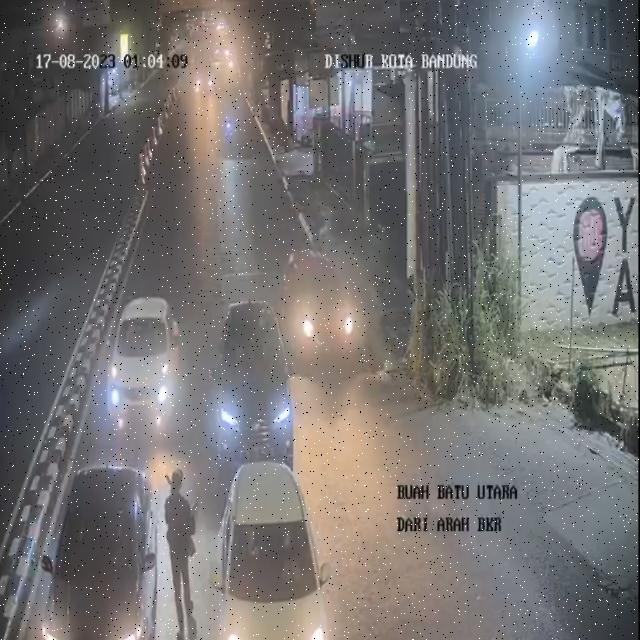cars: (37, 454, 161, 637), (209, 458, 333, 639), (209, 294, 300, 478), (108, 292, 185, 444), (286, 246, 364, 372)
